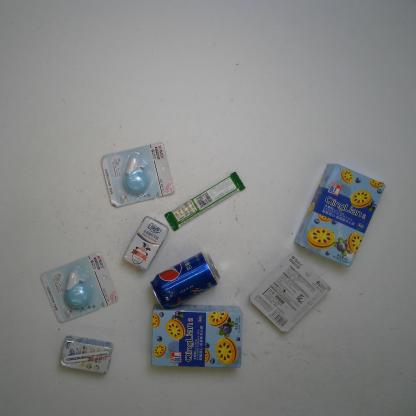Chocolate: (164, 170, 245, 233)
Dessert: (293, 162, 388, 268), (149, 304, 243, 369)
Drink: (148, 252, 221, 309)
Milk: (120, 216, 168, 272), (57, 335, 114, 375)
Stationery: (247, 252, 332, 335), (40, 252, 118, 325), (101, 142, 174, 210)
